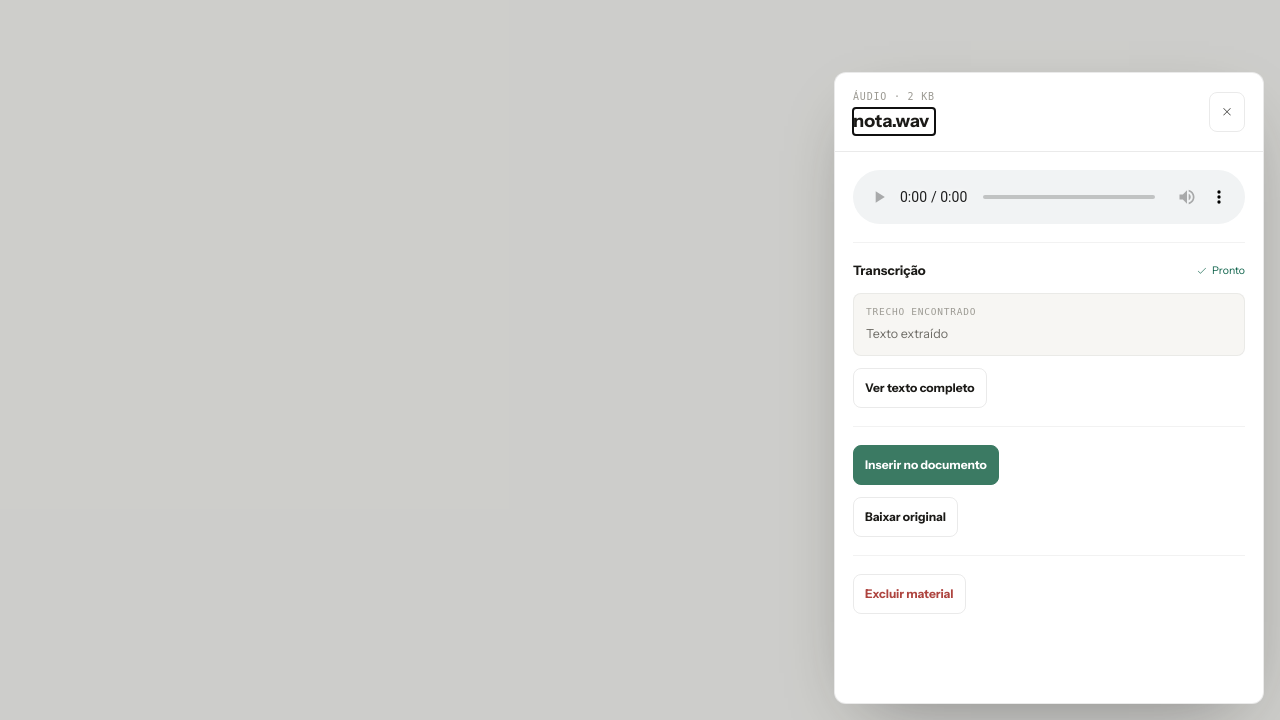
it: waits for persisted insertion and reports save failures without claiming success
Click the button "Inserir no documento": (926, 465) [853, 445, 999, 485]
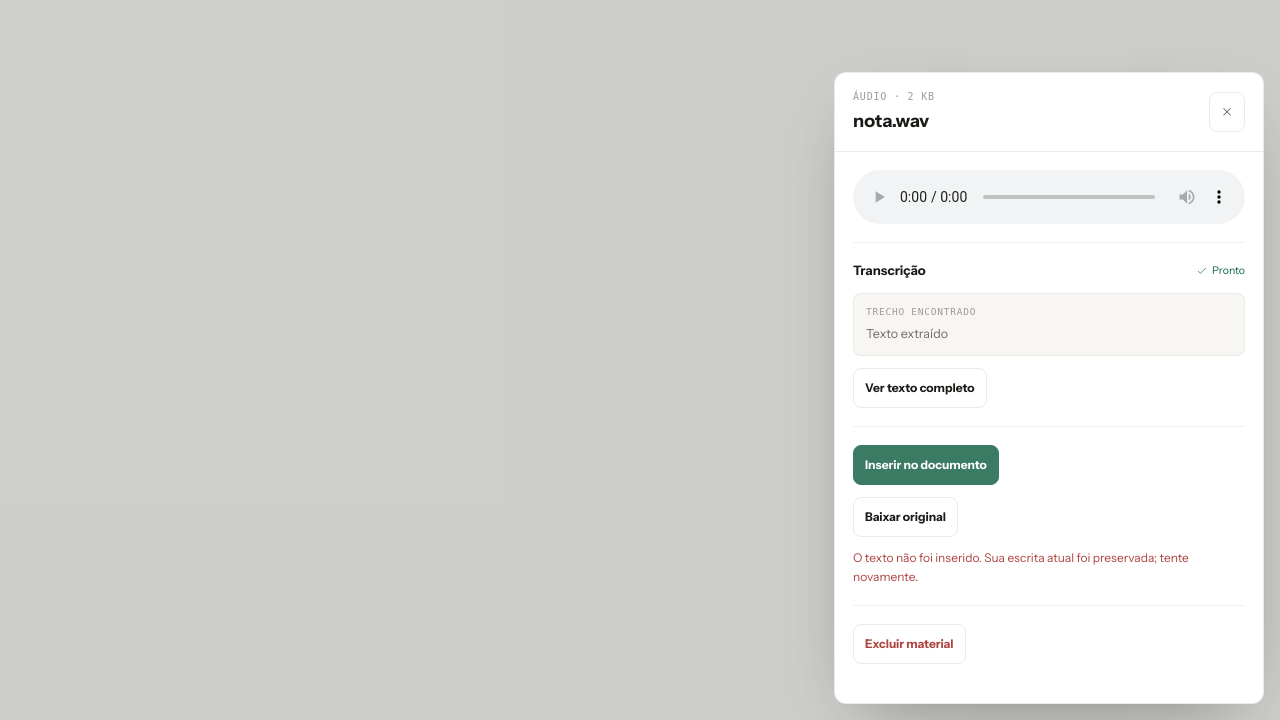
Expected: the message shows "não foi inserido", [853, 550, 1189, 584]
Click the button "Inserir no documento": (926, 465) [853, 445, 999, 485]
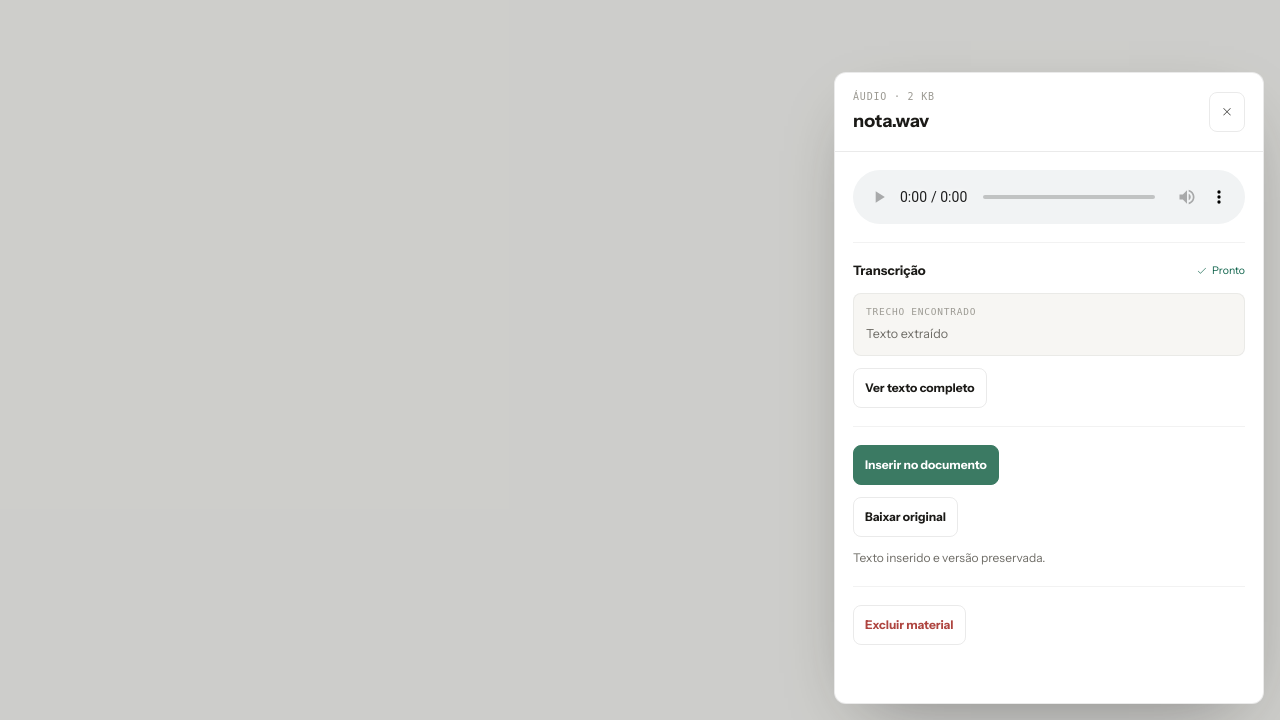
Expected: the message shows "Texto inserido e versão preservada", [853, 550, 1045, 565]
